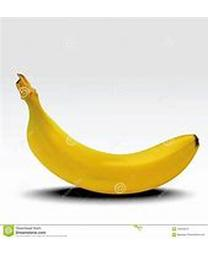banana: (13, 73, 201, 195)
